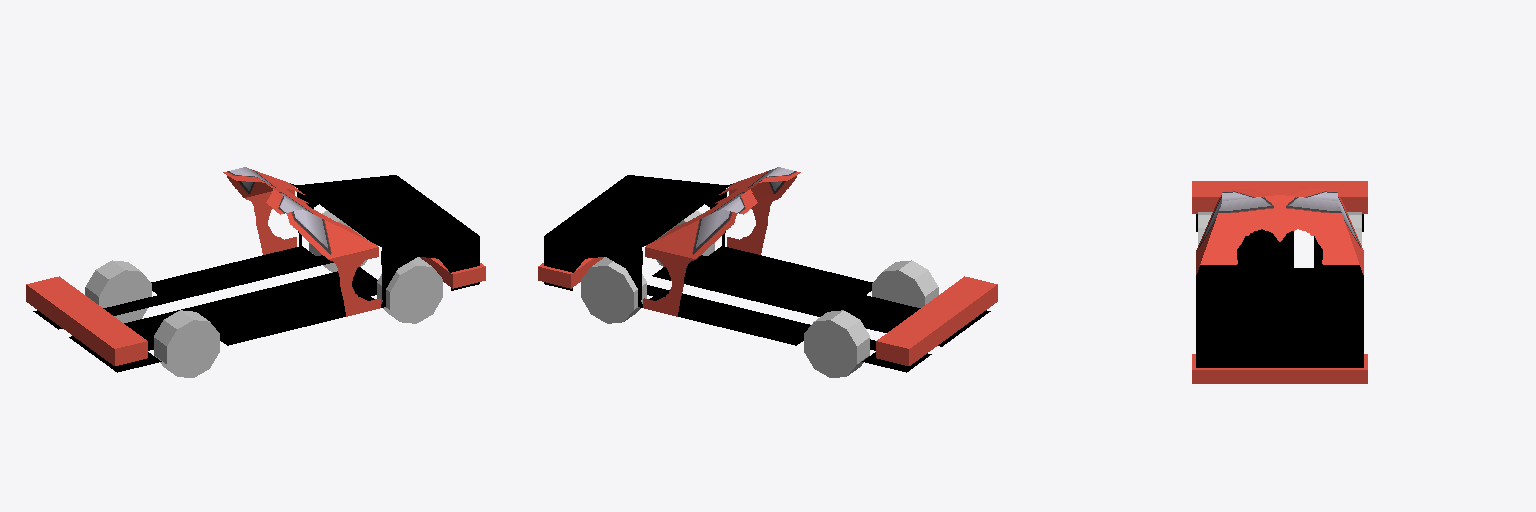
3 renders of one model, left to right at view 1: azimuth 30°, elevation 25°; view 2: azimuth 150°, elevation 25°; view 3: azimuth 270°, elevation 25°, orthographic.
Visible parts, largest first — view 1: car_body, bumper_back, tire_back_right, tire_front_right, tire_back_left, bumper_front; view 2: car_body, bumper_back, tire_back_left, tire_front_left, tire_back_right, bumper_front; view 3: car_body, bumper_front, bumper_back.
Boxes of the visible parts, <box> form: car_body: <box>33,167,479,372</box>; bumper_back: <box>26,276,147,365</box>; tire_back_right: <box>154,310,219,377</box>; tire_front_right: <box>377,257,442,323</box>; tire_back_left: <box>85,260,151,322</box>; bumper_front: <box>420,257,485,288</box>; car_body: <box>544,167,990,372</box>; bumper_back: <box>876,276,997,365</box>; tire_back_left: <box>804,310,869,377</box>; tire_front_left: <box>581,257,646,323</box>; tire_back_right: <box>872,260,938,307</box>; bumper_front: <box>538,257,603,288</box>; car_body: <box>1196,188,1363,367</box>; bumper_front: <box>1192,354,1367,383</box>; bumper_back: <box>1192,181,1367,213</box>.
Size of the model in its own units: 4.09 by 1.42 by 1.69.
Materials: 2 (1 with a texture image).